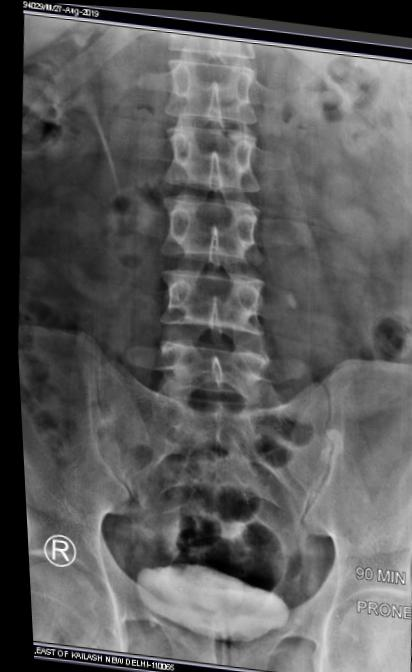bladder: (120, 543, 300, 659)
vertebrae: (163, 42, 268, 117)
